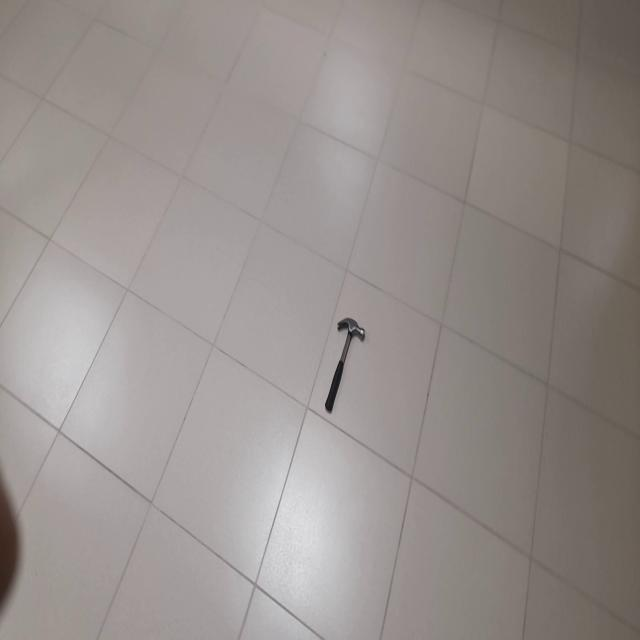hammer: (325, 316, 366, 415)
